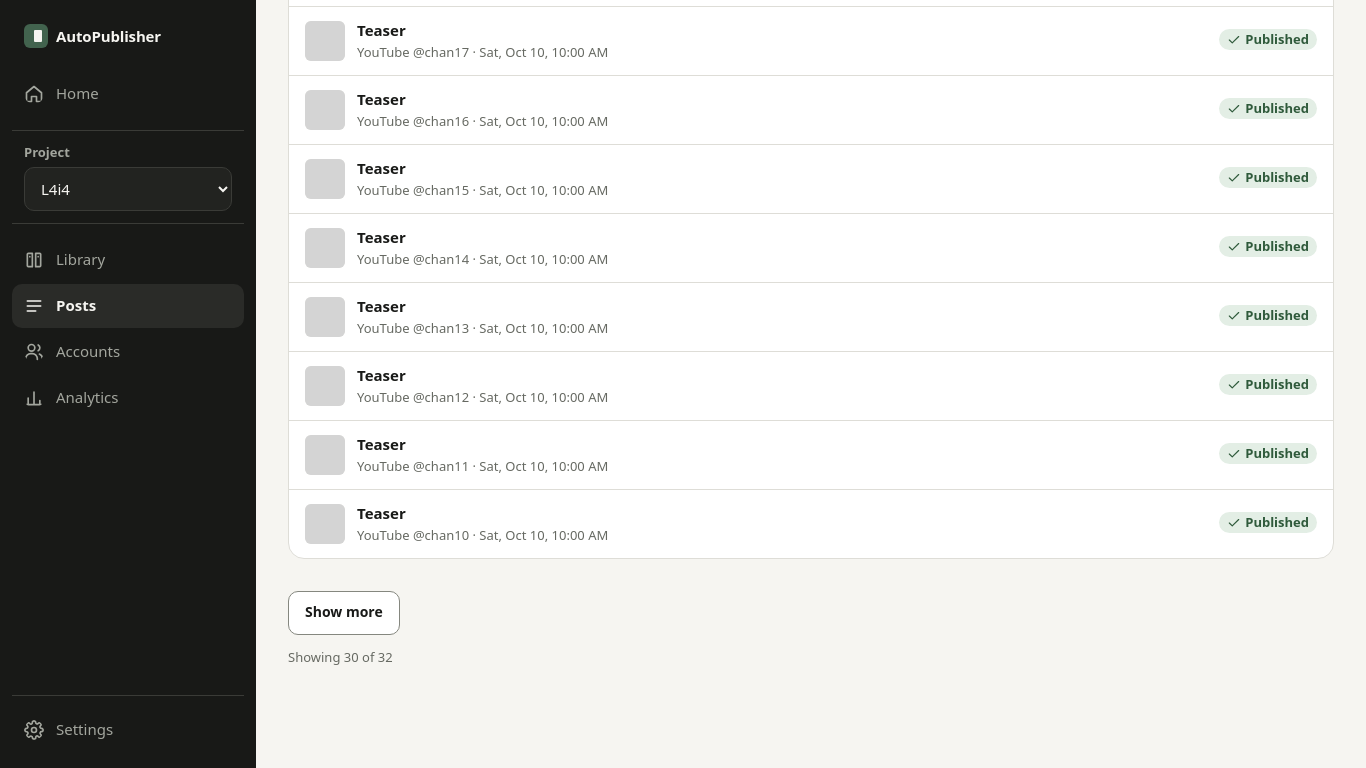
Test: shows History by month with Show more
(page scrolled)
Expected: the text "Showing 30 of 32" is shown, x1=288 y1=648 x2=393 y2=666
What coordinates should you click on to do the following:
click the button "Show more"
I would click on:
 (344, 613)
Its box is x1=288 y1=591 x2=400 y2=635.
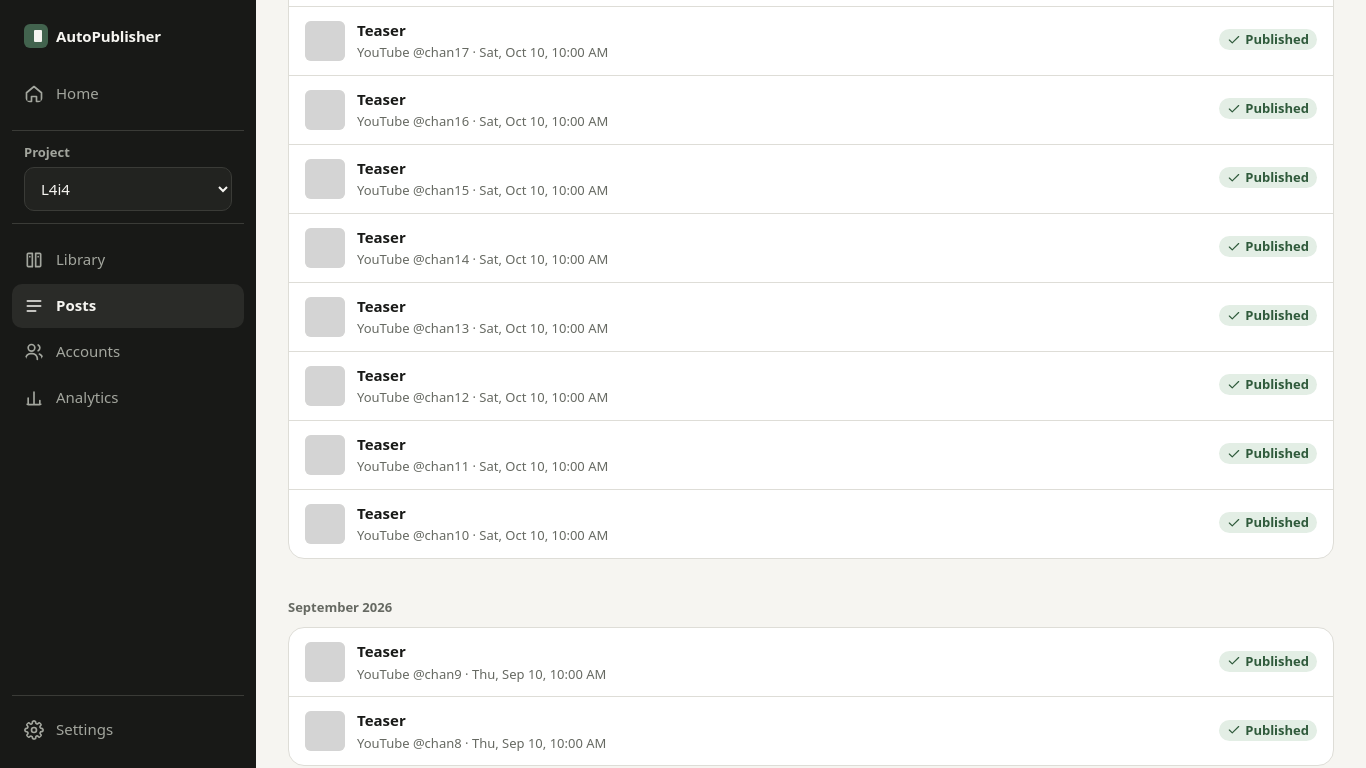
Now the heading "September 2026" is shown, box x1=288 y1=598 x2=392 y2=616
